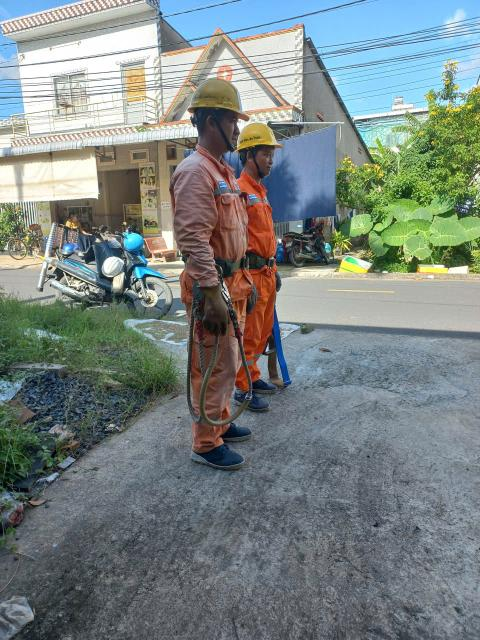gloves: (198, 277, 237, 343)
harness: (182, 247, 253, 283), (222, 240, 285, 275)
helmet: (182, 72, 252, 123), (240, 113, 285, 158)
shoes: (190, 436, 251, 477), (224, 383, 273, 420), (212, 418, 260, 440), (243, 365, 275, 395)
